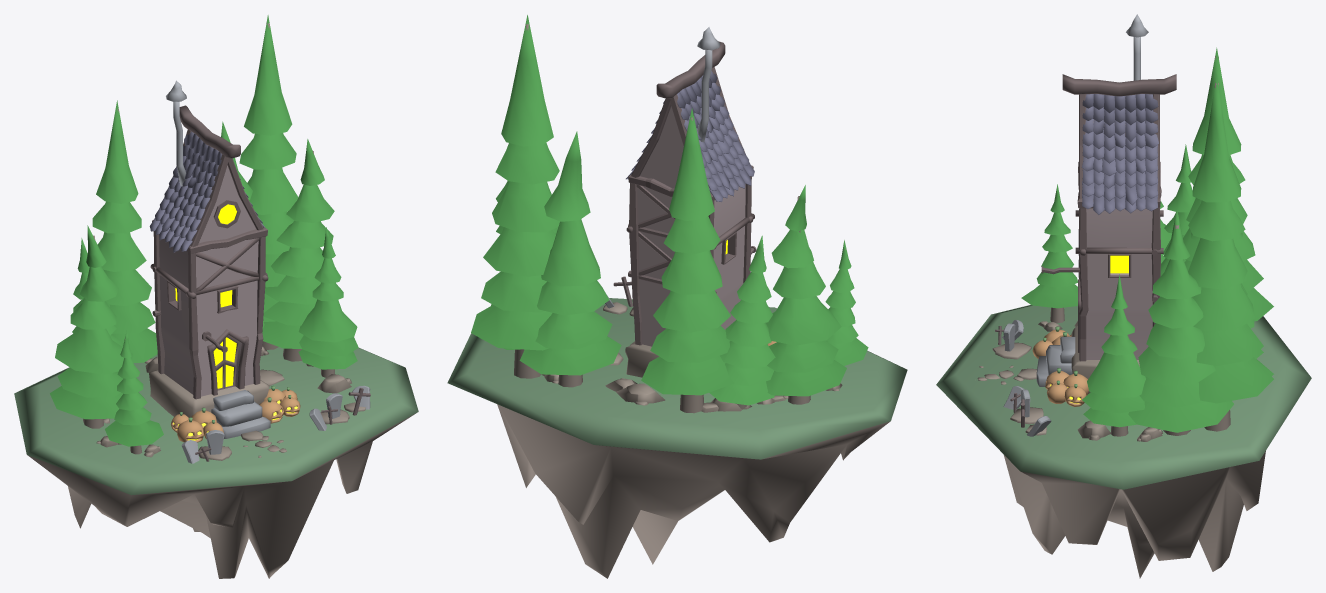
File: halloween_haunted_house-transformed.glb
3 views of the same model, side by side, from view 1: azimuth 30°, elevation 25°; view 2: azimuth 150°, elevation 25°; view 3: azimuth 270°, elevation 25° (orthographic). The views are drawn at different scales.
Parts seen in each view (by area): view 1: Object_13, Object_2, Object_3, Object_15, Object_7, Object_12, Object_11, Object_6, Object_8, Object_5, Object_4, Object_14; view 2: Object_13, Object_2, Object_3, Object_7, Object_15, Object_11, Object_12, Object_14, Object_4; view 3: Object_13, Object_2, Object_3, Object_11, Object_7, Object_15, Object_12, Object_6, Object_8, Object_14, Object_4.
Part boxes in pixels (x1,y1,x2,y2): Object_13: (50,15,358,446); Object_2: (14,347,418,495); Object_3: (27,413,415,578); Object_15: (150,105,370,461); Object_7: (159,165,258,396); Object_12: (96,346,365,460); Object_11: (149,131,264,252); Object_6: (181,385,370,463); Object_8: (171,389,300,442); Object_5: (175,204,236,388); Object_4: (166,80,186,186); Object_14: (83,23,334,454); Object_13: (471,15,868,405); Object_2: (447,298,907,459); Object_3: (497,404,890,578); Object_7: (637,106,745,346); Object_15: (613,41,756,345); Object_11: (626,71,754,201); Object_12: (541,302,842,412); Object_14: (514,24,846,413); Object_4: (697,27,720,142); Object_13: (1021,47,1273,432); Object_2: (936,305,1311,489); Object_3: (1004,451,1265,578); Object_11: (1082,94,1158,214); Object_7: (1086,120,1152,359); Object_15: (995,74,1176,427); Object_12: (977,321,1162,441); Object_6: (1002,320,1075,436); Object_8: (1032,329,1088,406); Object_14: (1050,56,1230,436); Object_4: (1126,14,1148,80).
Size of the model in its own units: 53.07 by 68.16 by 42.46.
